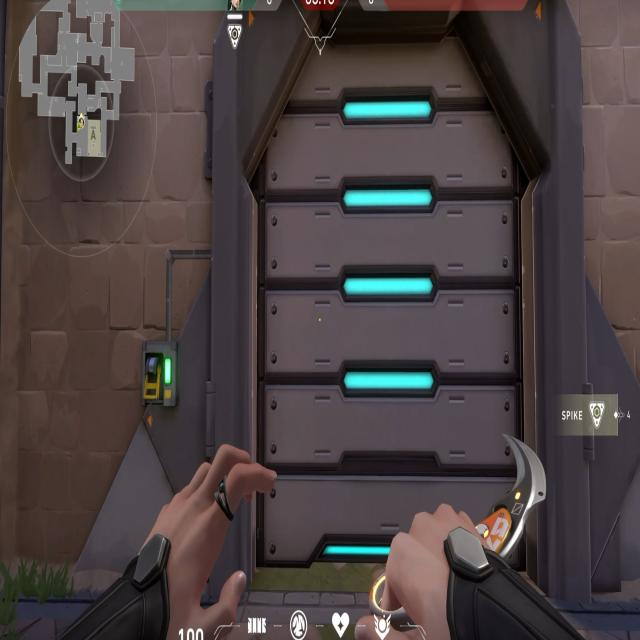A_Door: (214, 0, 567, 640)
